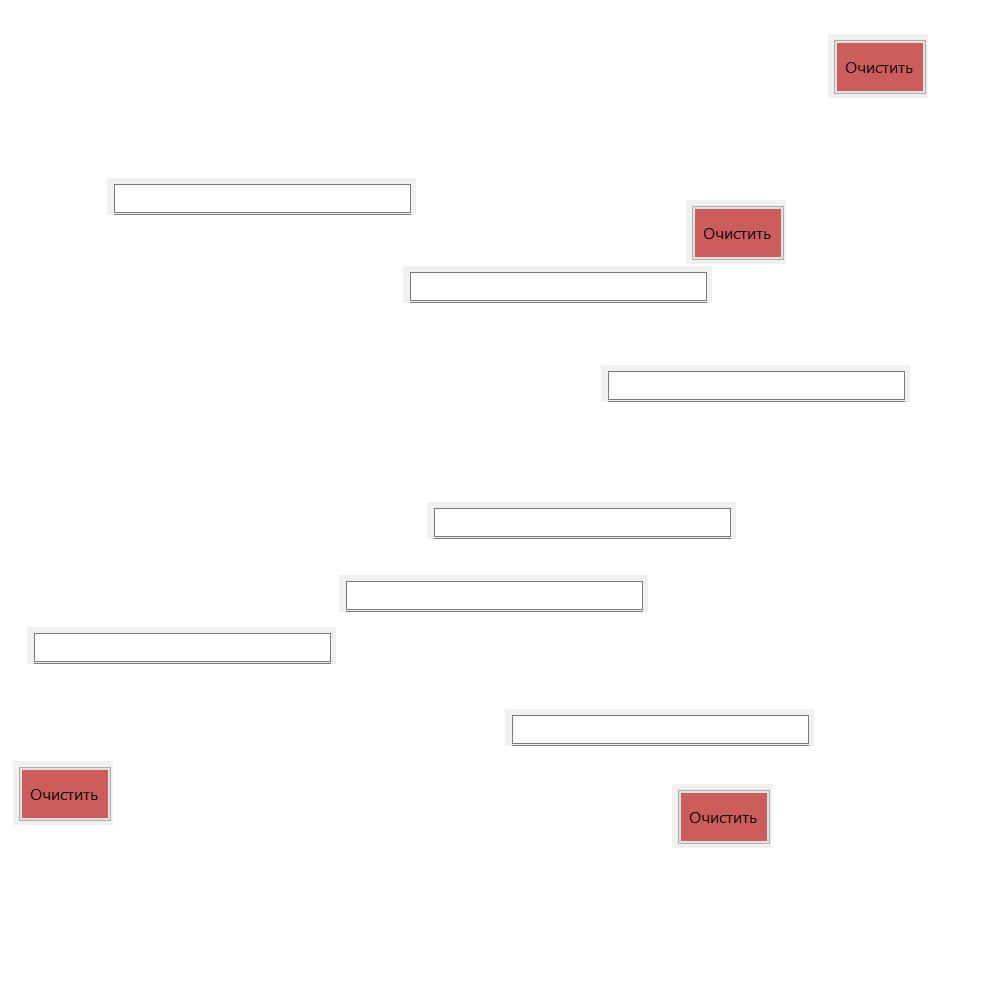Button: (672, 784, 772, 848), (686, 200, 786, 264), (13, 761, 113, 825), (828, 34, 928, 98)
EditText-: (339, 575, 648, 612), (27, 627, 336, 664), (427, 502, 736, 539), (601, 365, 910, 402), (107, 178, 416, 215), (403, 266, 712, 303), (505, 709, 814, 746)
